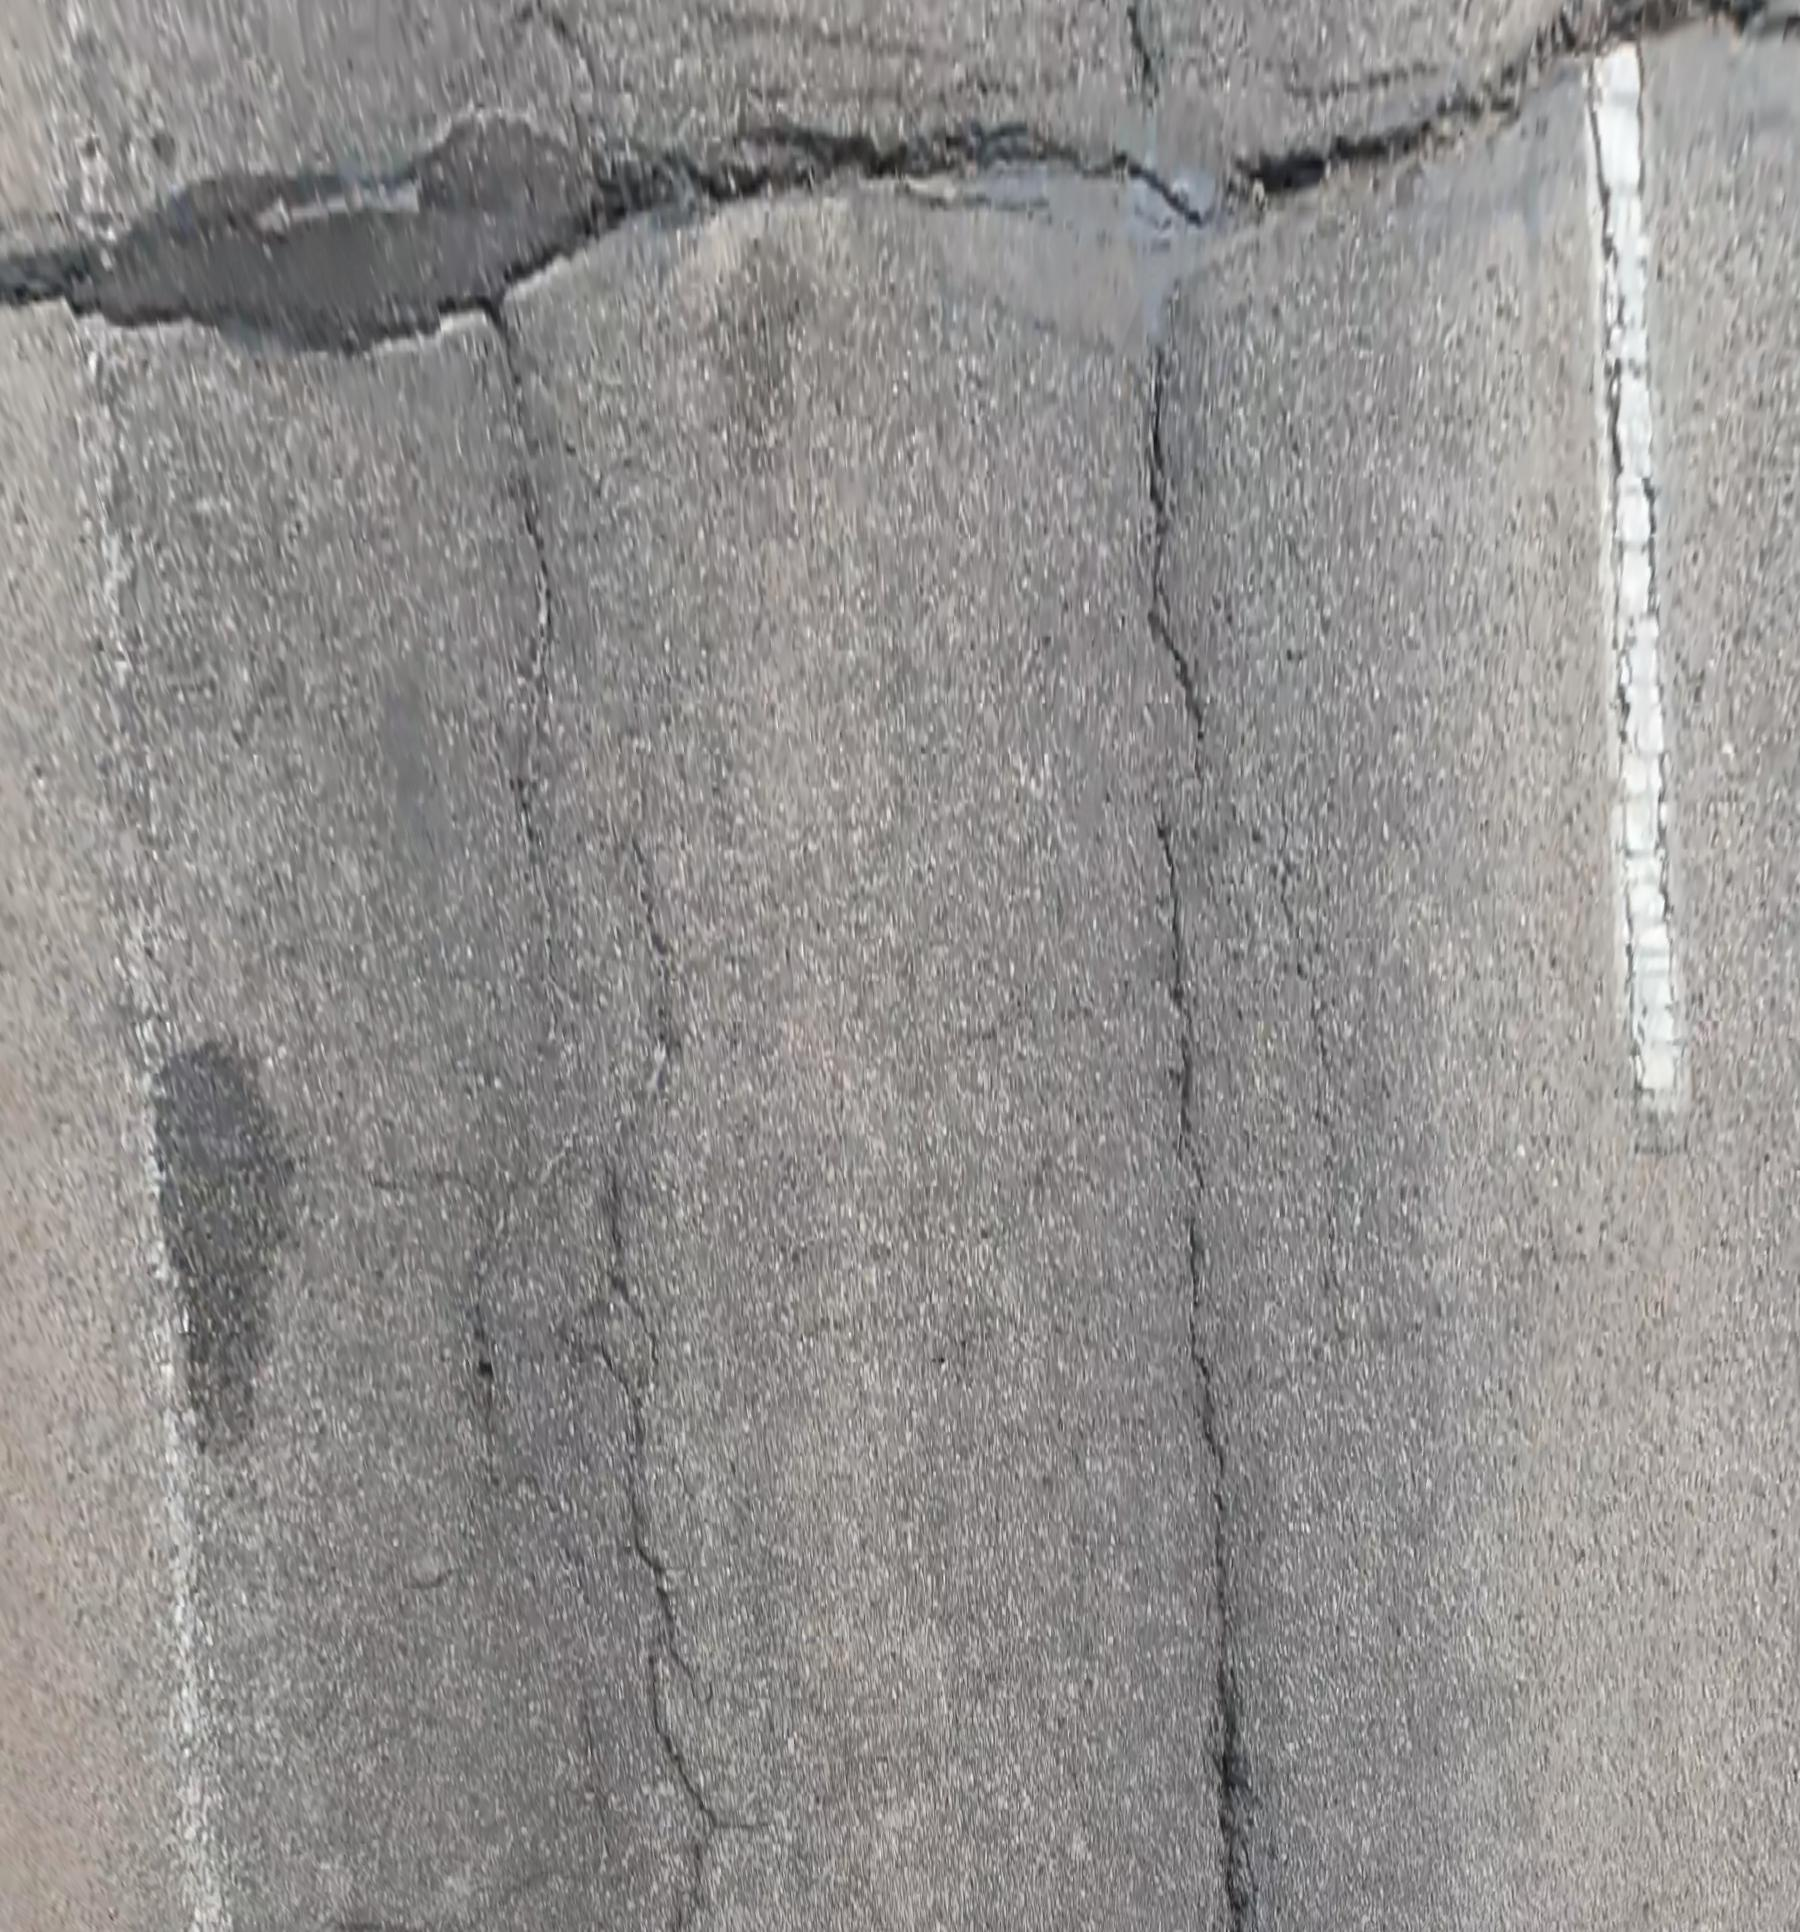pothole_patch_good: (151, 1044, 291, 1446)
pothole_patch_poor: (0, 122, 653, 357), (902, 46, 1260, 413)
